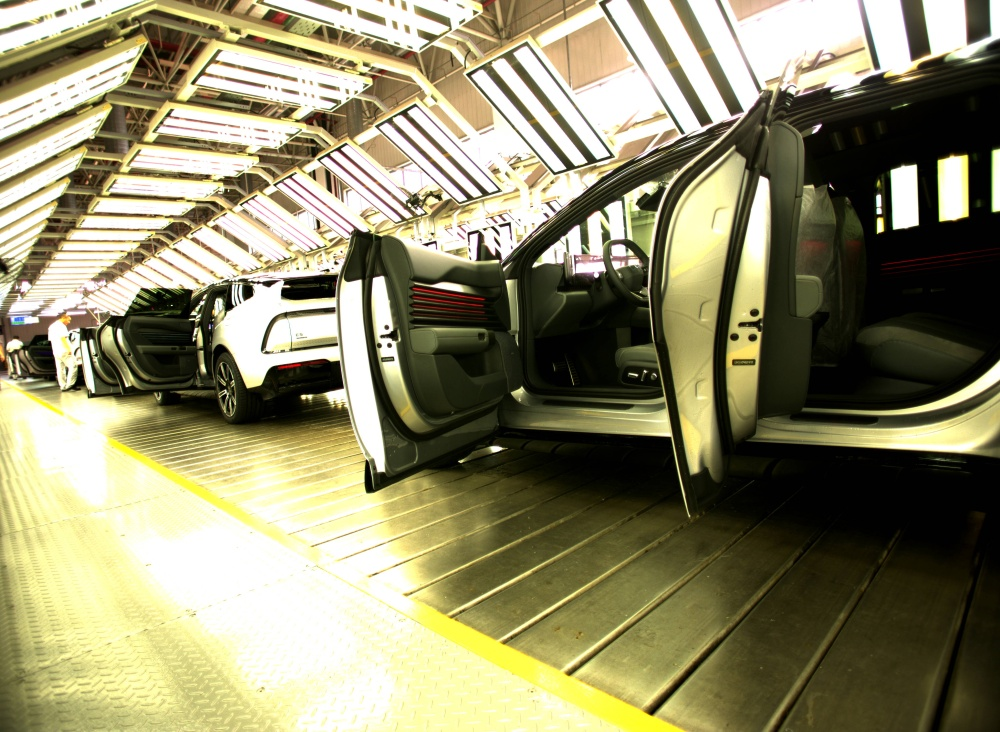armrest_color: (407, 326, 491, 355)
panel_color: (406, 276, 491, 329)
